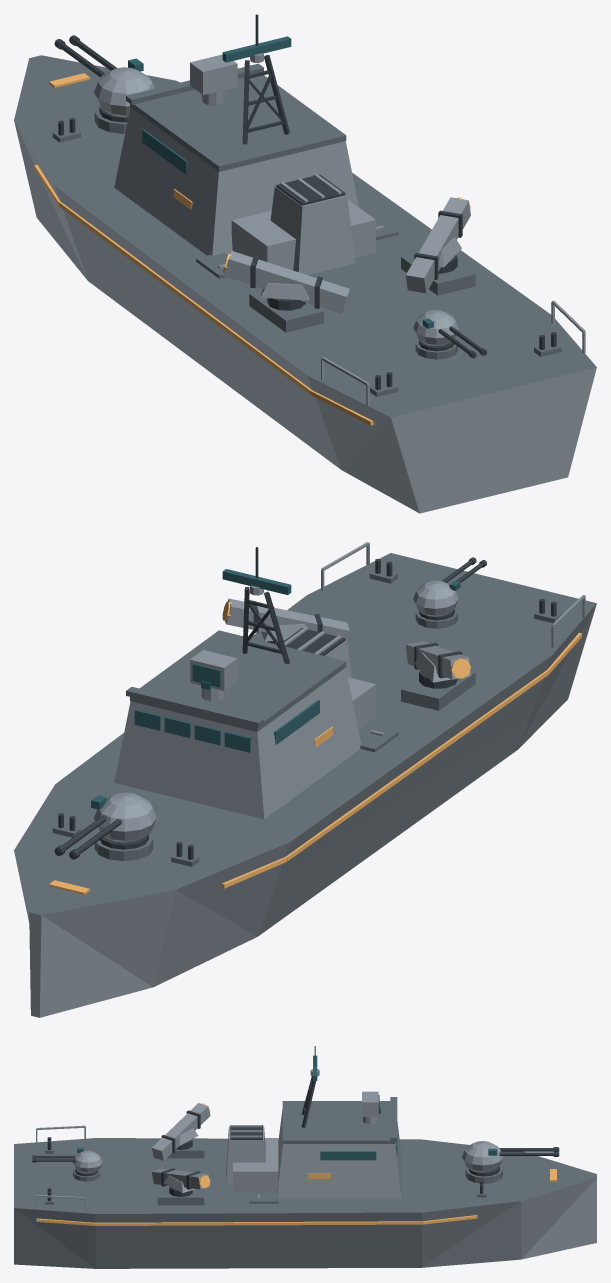
File: ESC_STK_T0.fbx
3 views of the same model, one above another, from view 1: azimuth 30°, elevation 25°; view 2: azimuth 150°, elevation 25°; view 3: azimuth 270°, elevation 25° (orthographic). The views are drawn at different scales.
Parts seen in each view (by area): view 1: ContinuousHull.012, Deckhouse.012, Roof.012, FunnelEnclosure.012, AftEngineHouse, MissileBankPortTube1, MissileBankStarboardTube1, PrimaryGunCupola.012, RoleHullStripe-1_1, FireControlHousing, MissileBankPortFoundation, MissileBankStarboardFoundation (+6 smaller); view 2: ContinuousHull.012, Deckhouse.012, Roof.012, PrimaryGunCupola.012, RoleHullStripe-1_1, MissileBankStarboardTube1, BridgeBrow, MissileBankPortFoundation, AftGunCupola, FireControlHousing, AftEngineHouse, MissileBankPortTube1 (+5 smaller); view 3: ContinuousHull.012, Deckhouse.012, Roof.012, AftEngineHouse, RoleHullStripe1_1, FunnelEnclosure.012, MissileBankPortTube1, PrimaryGunCupola.012, MissileBankStarboardFoundation, MissileBankStarboardTube1, BridgeSideGlass1, AftGunCupola (+6 smaller).
Boxes of the visible parts, x1,y1,x2,y2 form: ContinuousHull.012: (14,55,596,513); Deckhouse.012: (114,107,358,255); Roof.012: (130,75,346,171); FunnelEnclosure.012: (270,186,355,274); AftEngineHouse: (231,199,375,270); MissileBankPortTube1: (223,250,349,313); MissileBankStarboardTube1: (405,197,470,293); PrimaryGunCupola.012: (94,67,154,117); RoleHullStripe-1_1: (58,201,312,394); FireControlHousing: (190,54,237,94); MissileBankPortFoundation: (249,291,323,332); MissileBankStarboardFoundation: (401,252,475,295); ContinuousHull.012: (14,553,596,1017); Deckhouse.012: (114,667,361,819); Roof.012: (130,630,346,731); PrimaryGunCupola.012: (94,792,156,842); RoleHullStripe-1_1: (286,670,548,861); MissileBankStarboardTube1: (225,598,349,639); BridgeBrow: (126,687,263,727); MissileBankPortFoundation: (401,671,475,710); AftGunCupola: (413,580,458,616); FireControlHousing: (190,650,237,690); AftEngineHouse: (348,677,375,729); MissileBankPortTube1: (405,641,470,679); ContinuousHull.012: (14,1138,596,1268); Deckhouse.012: (277,1109,401,1199); Roof.012: (282,1101,395,1143); AftEngineHouse: (233,1138,278,1192); RoleHullStripe1_1: (95,1221,421,1225); FunnelEnclosure.012: (226,1126,265,1184); MissileBankPortTube1: (151,1103,210,1160); PrimaryGunCupola.012: (462,1141,503,1172); MissileBankStarboardFoundation: (157,1186,204,1205); MissileBankStarboardTube1: (151,1168,210,1189); BridgeSideGlass1: (320,1151,376,1160); AftGunCupola: (72,1150,102,1173).
Size of the model in its own units: 281 by 333 by 900.
